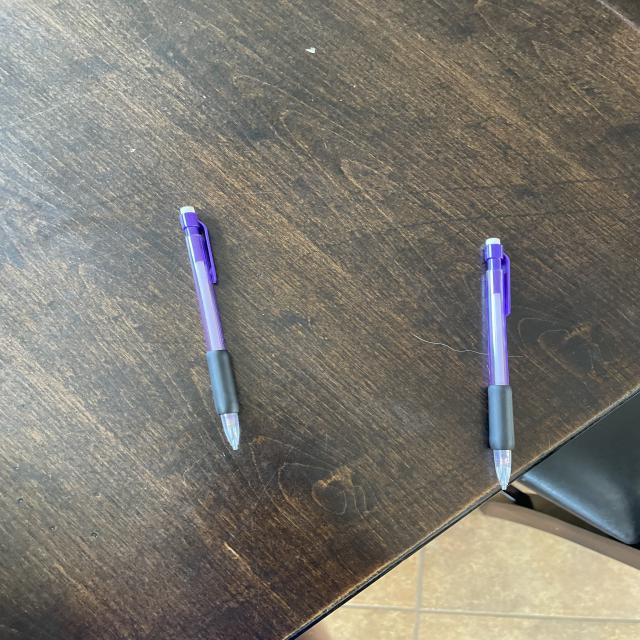mechanical-pencils: (165, 201, 263, 456), (474, 235, 530, 494)
